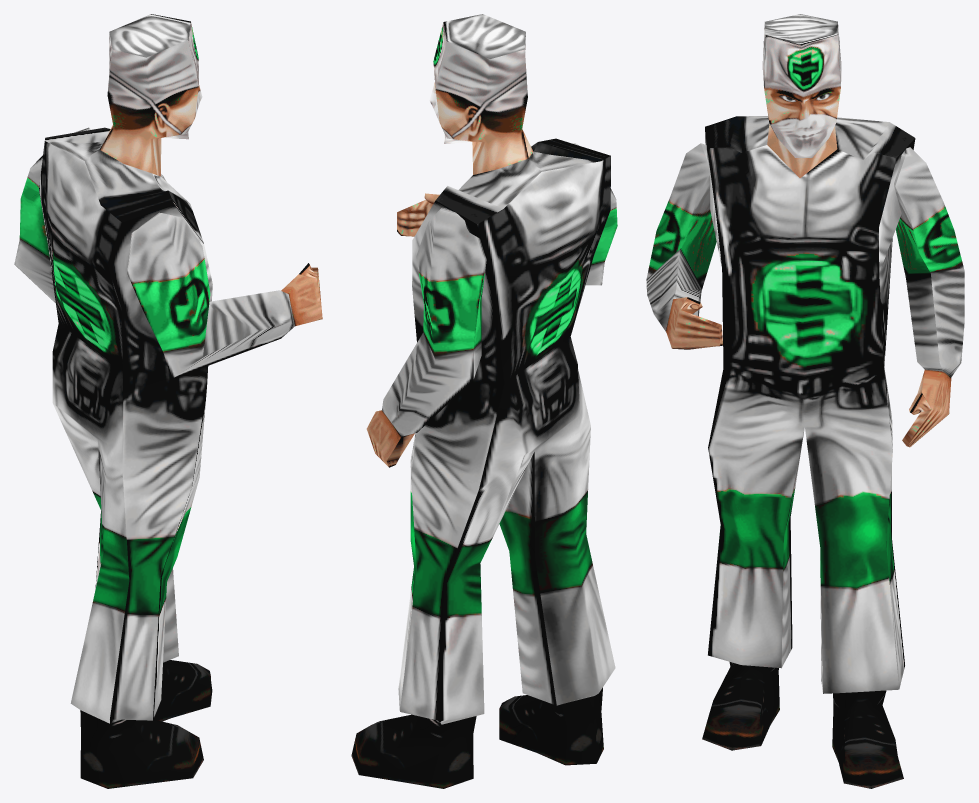
Rendered from medic2_green.glb.
3 renders of one model, left to right at view 1: azimuth 30°, elevation 25°; view 2: azimuth 150°, elevation 25°; view 3: azimuth 270°, elevation 25°, orthographic.
Parts seen in each view (by area): view 1: medic2; view 2: medic2; view 3: medic2.
Part boxes in pixels (<box>): medic2: <box>14,14,322,788</box>; medic2: <box>351,14,617,788</box>; medic2: <box>646,14,964,788</box>.
Size of the model in its own units: 24.12 by 73.62 by 29.5.
Materials: 1 (1 with a texture image).
